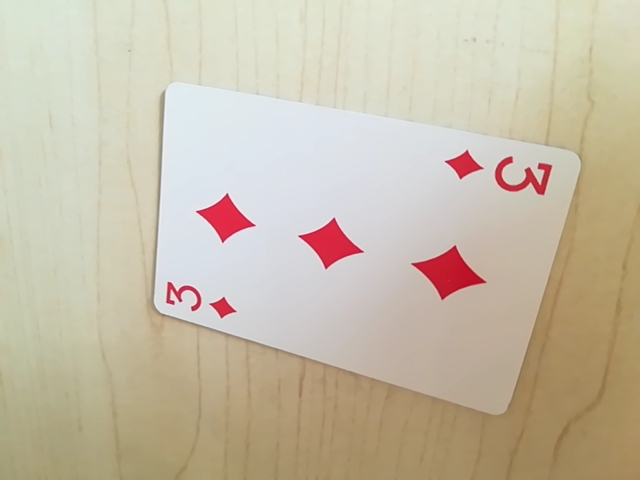fk 3: (445, 148, 555, 200), (160, 277, 240, 323)
